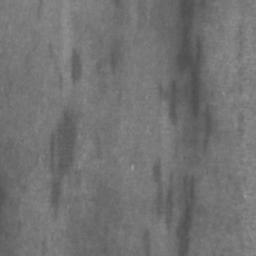Inclusion: (175, 0, 202, 115), (51, 113, 79, 214), (177, 204, 192, 256), (70, 49, 82, 83)
